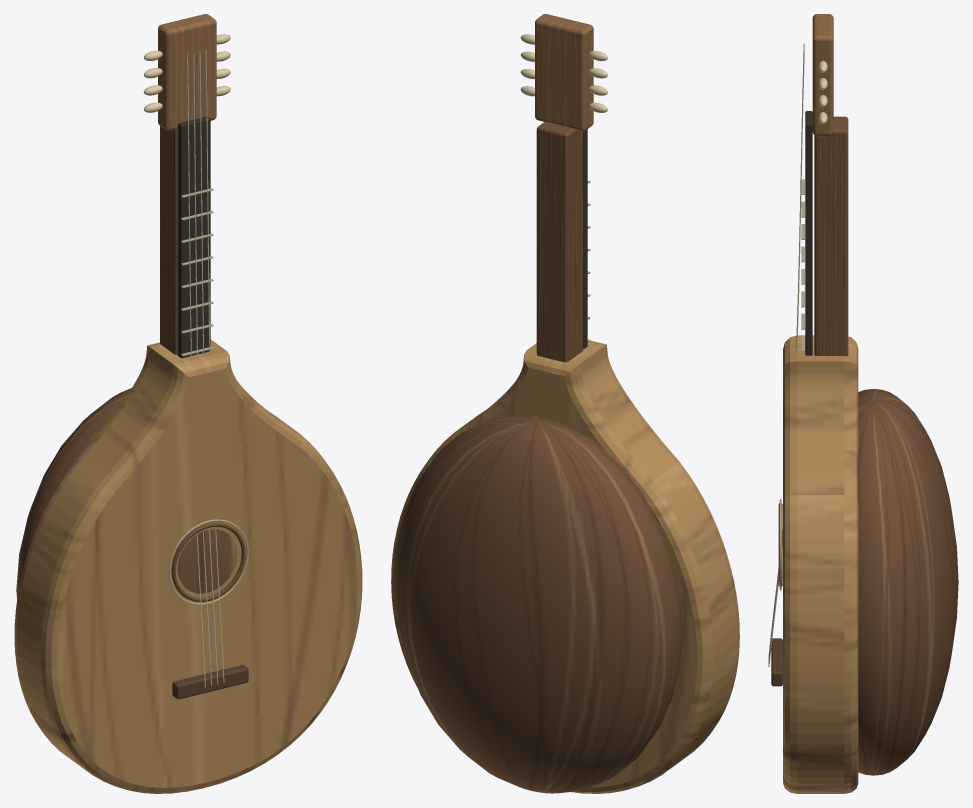
File: props_p8__p8_mandolin.glb
The picture shows the model from 3 angles, left to right: view 1: azimuth 30°, elevation 25°; view 2: azimuth 150°, elevation 25°; view 3: azimuth 270°, elevation 25°; orthographic projection.
Parts seen in each view (by area): view 1: soundboard, reference_static_surfaces (×4), fingerboard, headstock, bridge, rosette, rosette_inlay; view 2: reference_static_surfaces (×2), soundboard, headstock, fingerboard; view 3: reference_static_surfaces (×4), soundboard, headstock, fingerboard, bridge.
Boxes of the visible parts, x1=… form: soundboard: x1=14, y1=339, x2=362, y2=793; reference_static_surfaces (×4): x1=16, y1=34, x2=237, y2=687; fingerboard: x1=178, y1=116, x2=210, y2=358; headstock: x1=158, y1=14, x2=216, y2=130; bridge: x1=172, y1=665, x2=248, y2=699; rosette: x1=171, y1=523, x2=245, y2=601; rosette_inlay: x1=168, y1=519, x2=248, y2=605; reference_static_surfaces (×2): x1=393, y1=34, x2=682, y2=793; soundboard: x1=391, y1=340, x2=739, y2=793; headstock: x1=535, y1=14, x2=593, y2=131; fingerboard: x1=583, y1=129, x2=587, y2=348; reference_static_surfaces (×4): x1=768, y1=43, x2=958, y2=775; soundboard: x1=783, y1=335, x2=858, y2=793; headstock: x1=812, y1=14, x2=833, y2=136; fingerboard: x1=805, y1=111, x2=812, y2=355; bridge: x1=771, y1=638, x2=782, y2=686.
Size of the model in its own units: 0.2933 by 0.6625 by 0.1526.
11 materials, 3 textured.
